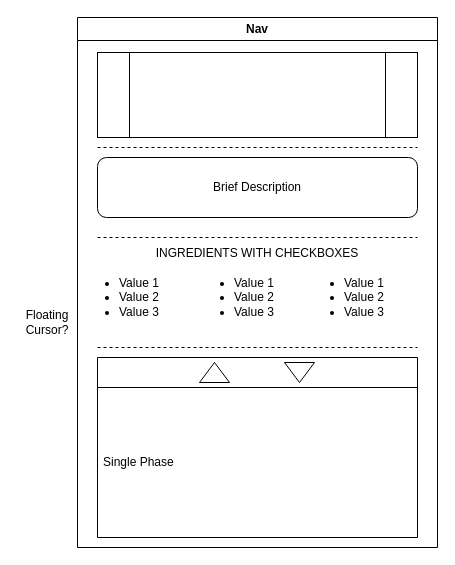
The diagram is 455 pixels wide and 565 high, and some of its shapes have lost their labels. The shapes that lost their labels are listed below. From the top down, each one's box as (x1, y1, x2, y2) in pixels, then its label:
(96, 52, 418, 138): Recipe Name Over Photo
(96, 356, 418, 538): Phases
